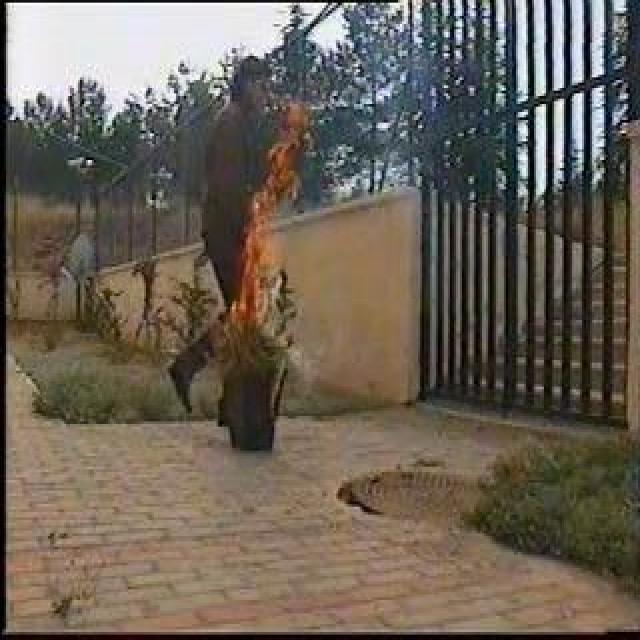fire: (238, 113, 308, 320)
